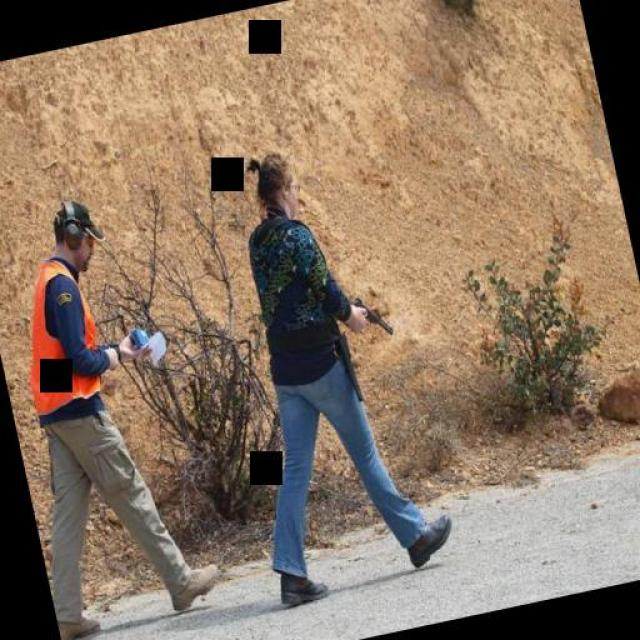gun: (346, 284, 395, 345)
